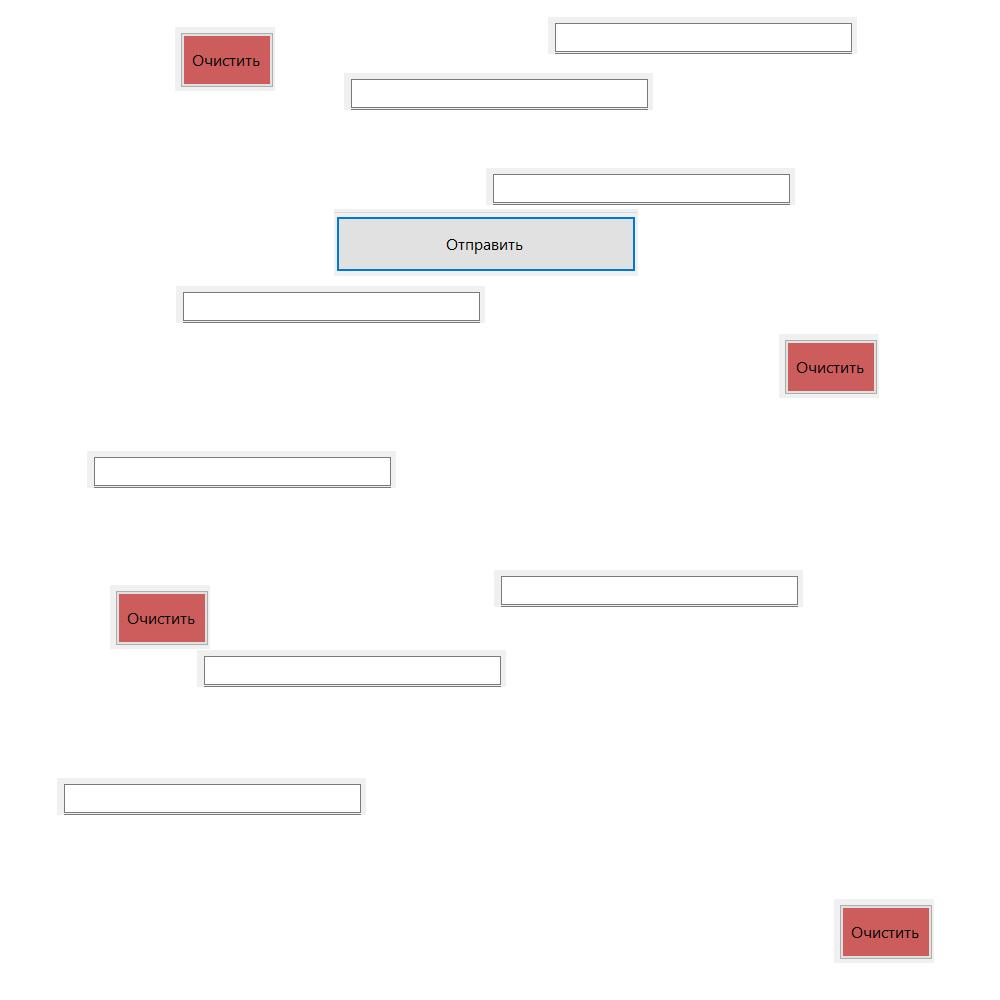Button: (334, 209, 638, 276), (779, 334, 879, 398), (834, 899, 934, 963), (175, 27, 275, 91), (110, 585, 210, 649)
EditText-: (486, 168, 795, 205), (87, 451, 396, 488), (344, 73, 653, 110), (494, 570, 803, 607), (176, 286, 485, 323), (57, 778, 366, 815), (548, 17, 857, 54), (197, 650, 506, 687)
